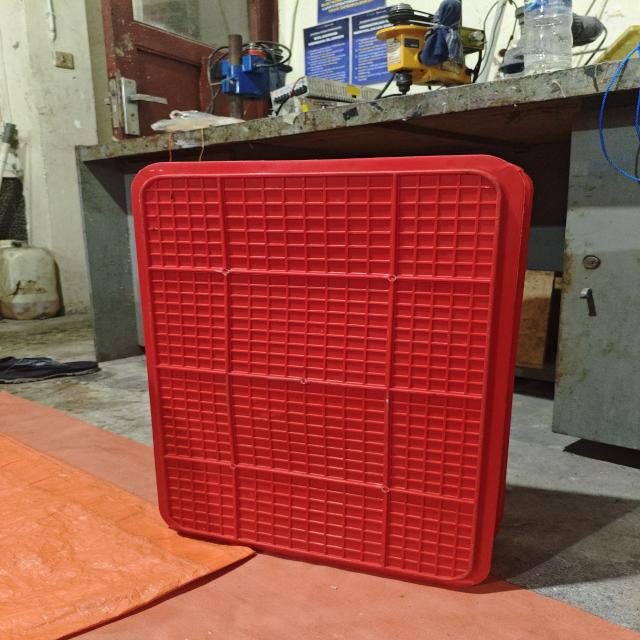red plastic box: (131, 154, 533, 588)
